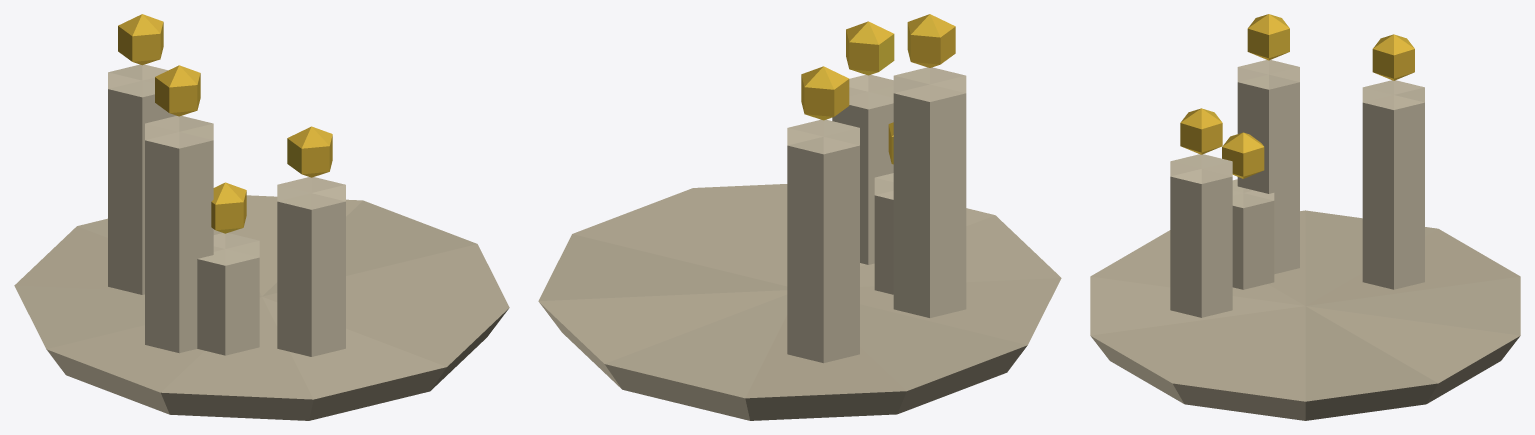
The model's file is p_candles.glb.
The picture shows the model from 3 angles, left to right: view 1: azimuth 30°, elevation 25°; view 2: azimuth 150°, elevation 25°; view 3: azimuth 270°, elevation 25°; orthographic projection. The views are drawn at different scales.
Visible parts, largest first — view 1: p_candles; view 2: p_candles; view 3: p_candles.
Part boxes in pixels (left/top/right/bottom): p_candles: left=14, top=14, right=509, bottom=420; p_candles: left=538, top=14, right=1061, bottom=420; p_candles: left=1090, top=14, right=1520, bottom=420.
Bounding box in the file's own units: 0.44 × 0.2944 × 0.4185.
